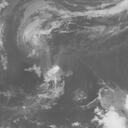cyclone: (18, 2, 59, 57)
